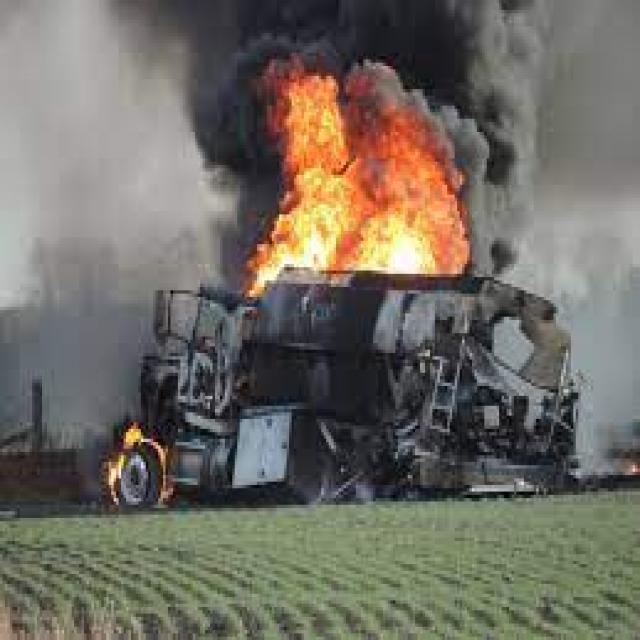fire: (257, 79, 484, 294), (104, 422, 178, 508)
smoke: (111, 3, 255, 297), (109, 3, 561, 76), (452, 3, 559, 287), (20, 234, 106, 508)
